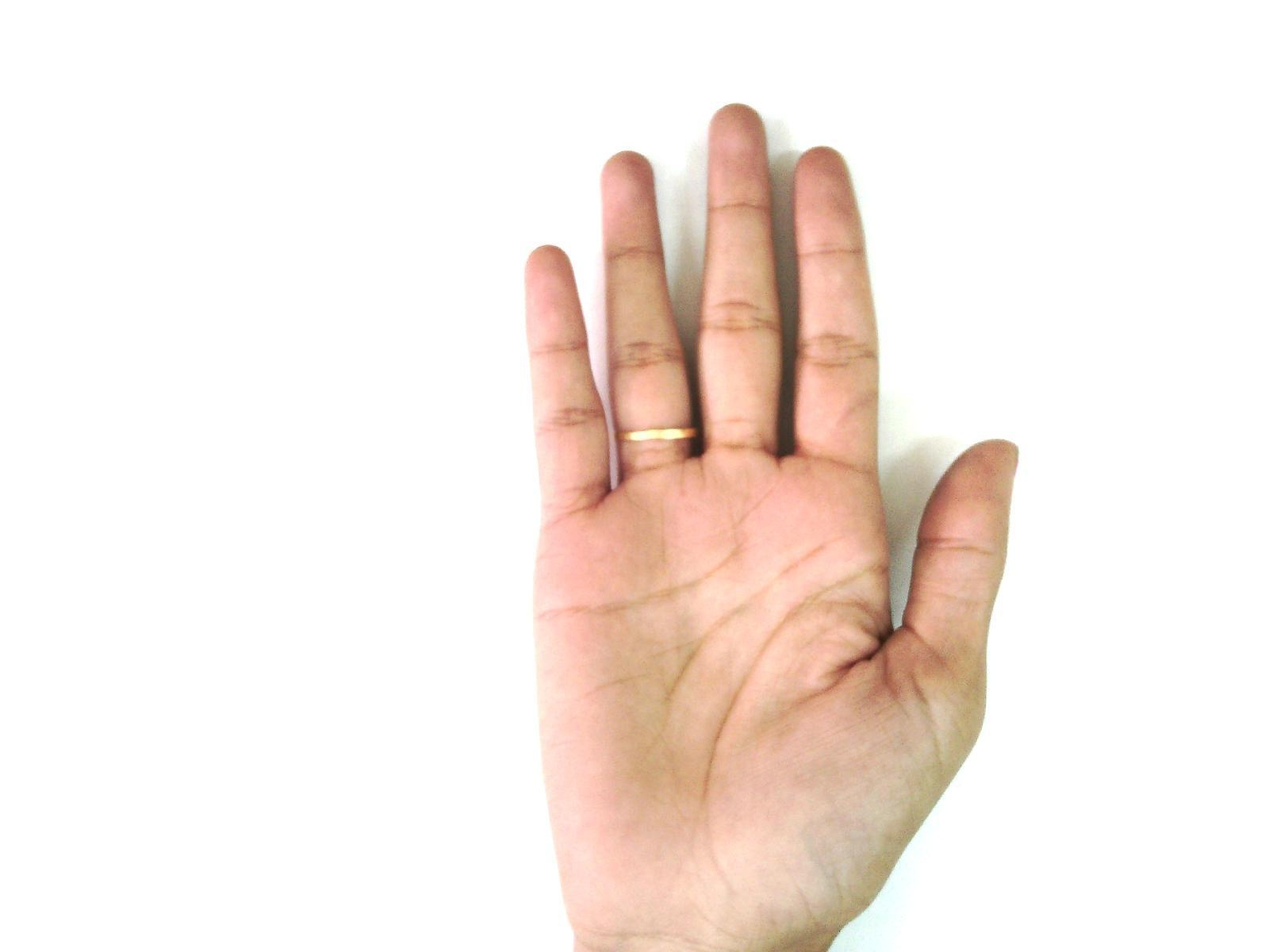open_palm: (519, 102, 1022, 951)
